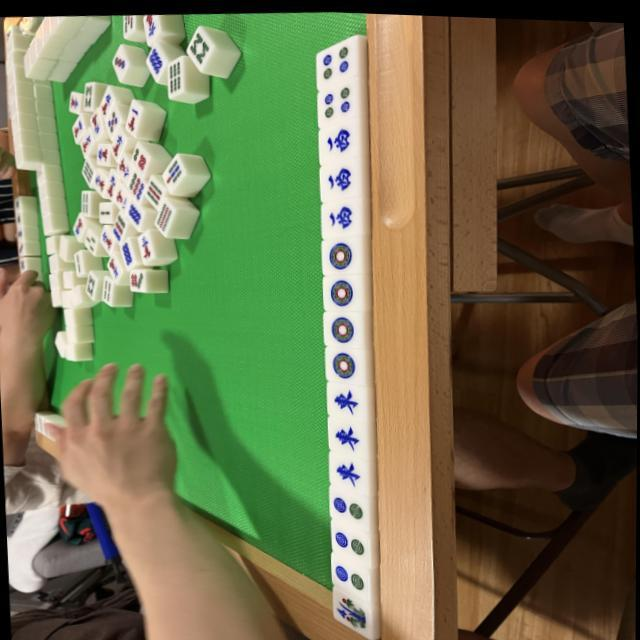bf4: (332, 592, 374, 628)
hwe: (331, 456, 366, 486), (332, 420, 363, 450), (330, 384, 360, 414)
hww: (322, 159, 357, 193), (321, 122, 355, 156), (324, 198, 358, 230)
sd1: (322, 236, 360, 271), (324, 345, 364, 378), (324, 309, 358, 344), (326, 272, 360, 306)
sd2: (330, 560, 370, 588), (332, 526, 368, 554), (331, 491, 366, 518)
sd4: (316, 41, 356, 80), (318, 82, 356, 120)
